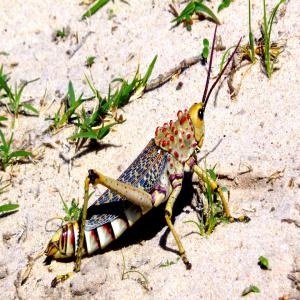locust: (46, 84, 220, 283), (58, 66, 229, 267)
